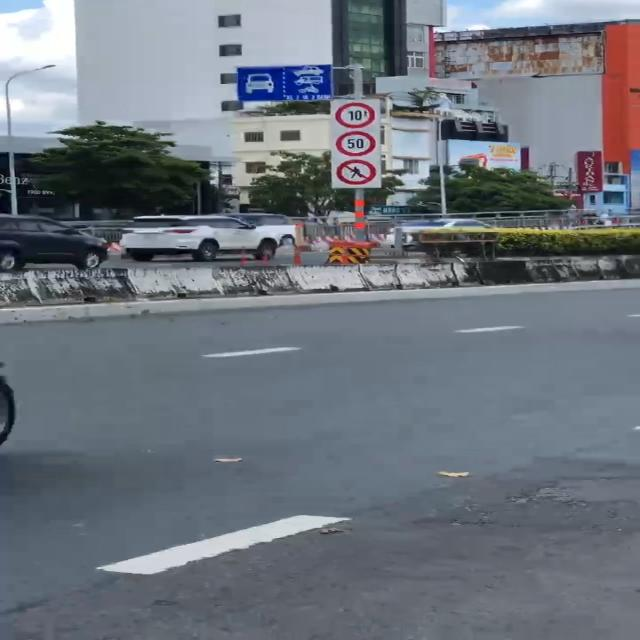Bien bao cam nguoi di bo: (335, 156, 384, 186)
Bien bao toc do toi da cho phep: (335, 130, 380, 156)
